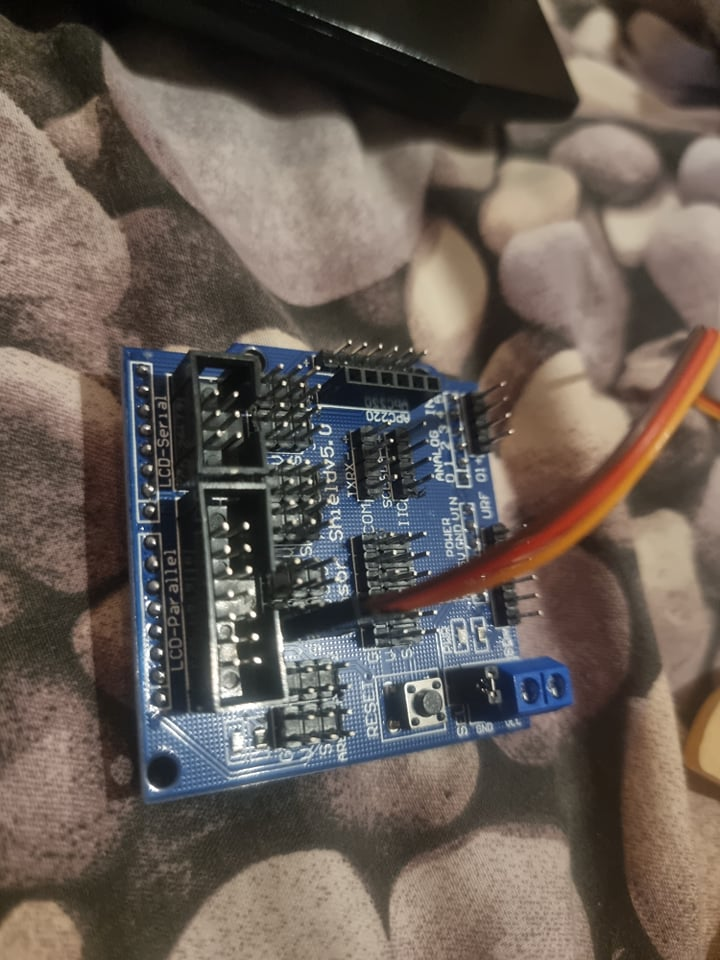5V EXPANSION: (117, 339, 573, 809)
